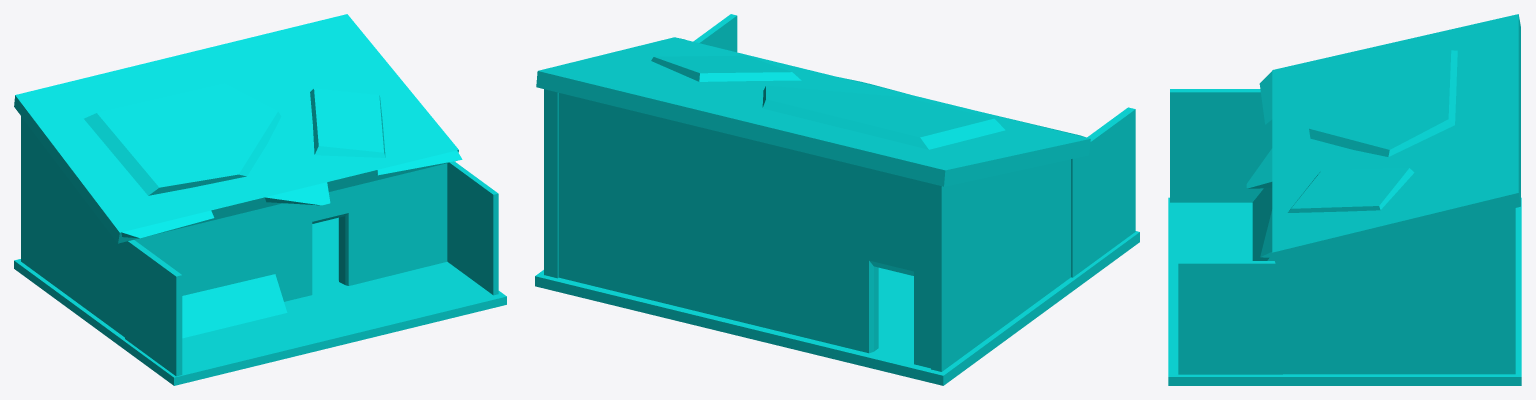
File: SM_Bld_Building_01_Collision.fbx
3 renders of one model, left to right at view 1: azimuth 30°, elevation 25°; view 2: azimuth 150°, elevation 25°; view 3: azimuth 270°, elevation 25°, orthographic. The views are drawn at different scales.
Parts seen in each view (by area): view 1: SM_Bld_Building_01_Collision; view 2: SM_Bld_Building_01_Collision; view 3: SM_Bld_Building_01_Collision.
Boxes of the visible parts, <box> form: SM_Bld_Building_01_Collision: <box>14,14,506,385</box>; SM_Bld_Building_01_Collision: <box>535,14,1139,385</box>; SM_Bld_Building_01_Collision: <box>1168,14,1521,385</box>.
Size of the model in its own units: 1024 by 503 by 835.
